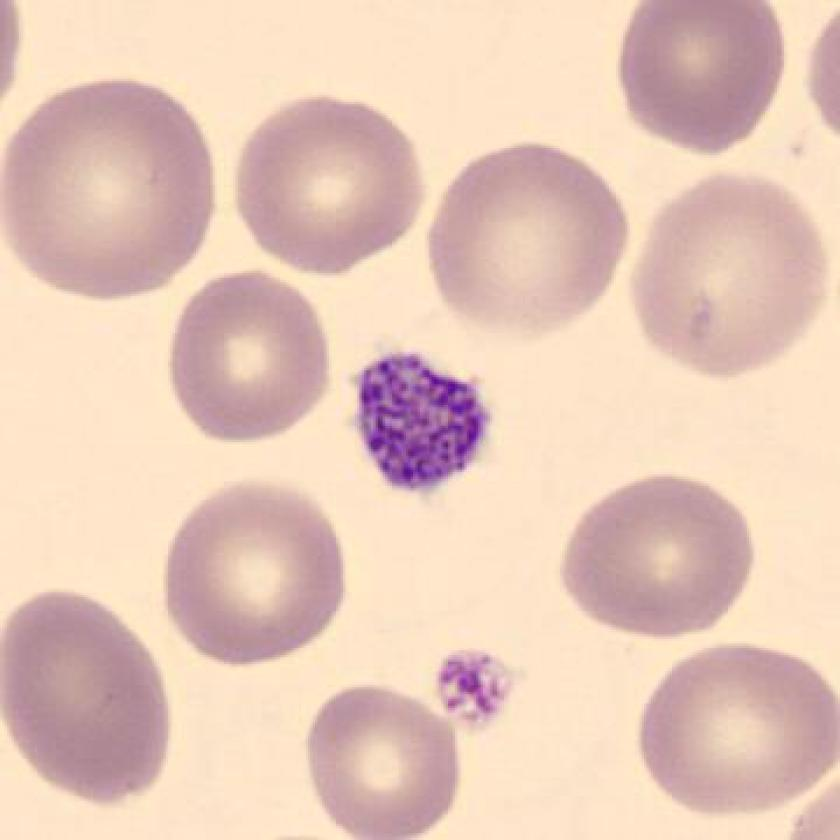platelets: (344, 341, 500, 503), (426, 640, 526, 737)
